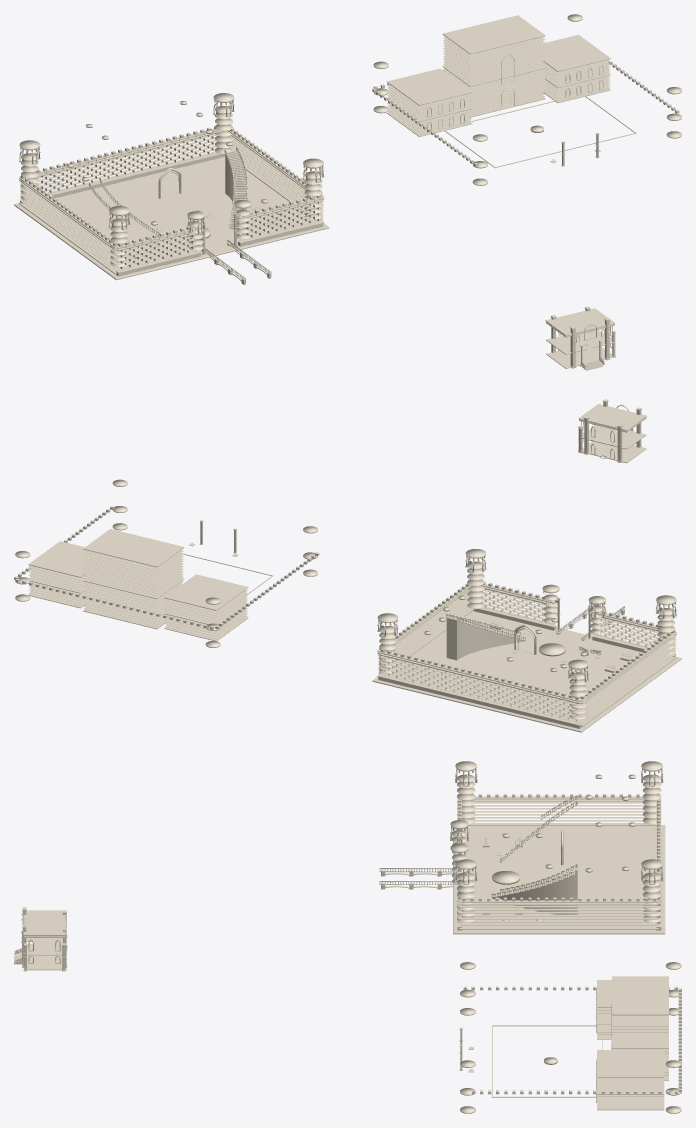
The model's file is Neris-03.glb.
The picture shows the model from 3 angles, top to bottom: view 1: azimuth 30°, elevation 25°; view 2: azimuth 150°, elevation 25°; view 3: azimuth 270°, elevation 25°; orthographic projection. The views are drawn at different scales.
Parts seen in each view (by area): view 1: Pale Carved Stone (×2); view 2: Pale Carved Stone (×2); view 3: Pale Carved Stone (×2).
Part boxes in pixels (x1,y1,x2,y2): Pale Carved Stone (×2): (14, 14, 681, 370); Pale Carved Stone (×2): (14, 399, 681, 732); Pale Carved Stone (×2): (14, 761, 681, 1113).
Size of the model in its own units: 413 by 55.21 by 402.
